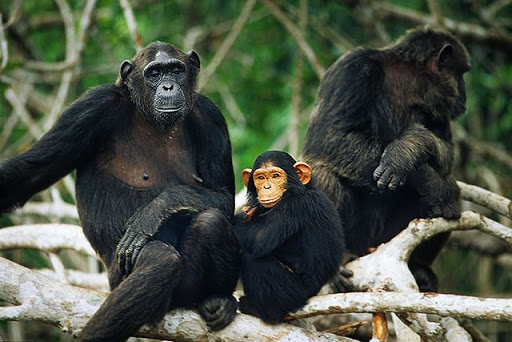Chimpanzee: (62, 24, 239, 321), (296, 28, 470, 235), (242, 149, 343, 317)
